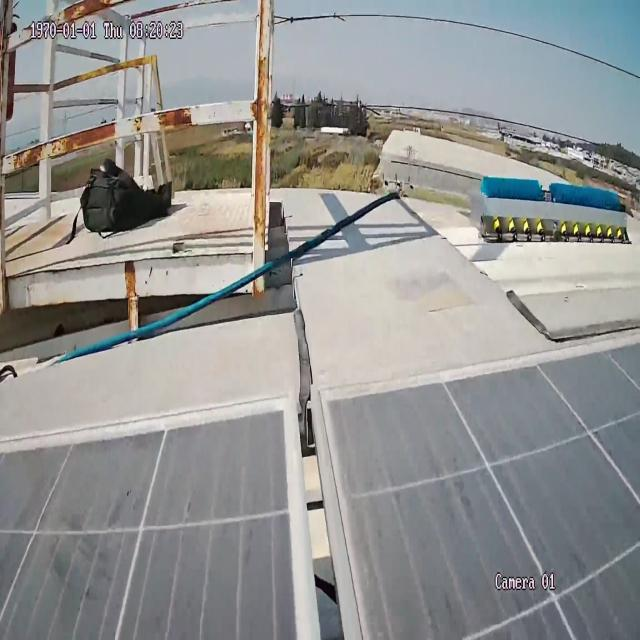interior panel: (229, 390, 397, 640)
